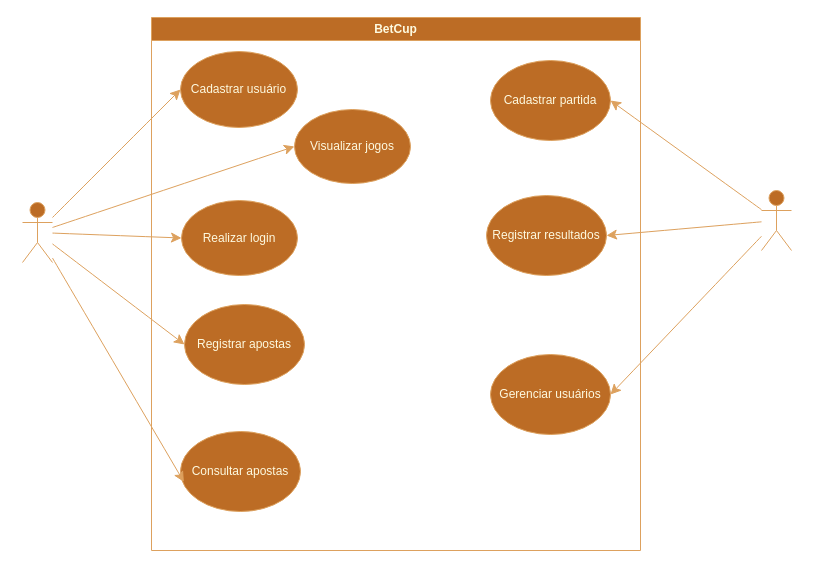
This 831x568 diagram has some shape labels left out. Here are the shapes that lost their labels. From the top down, the centre of each, then its label:
the point at 37,232: Usuário
the point at 776,220: Administrador
